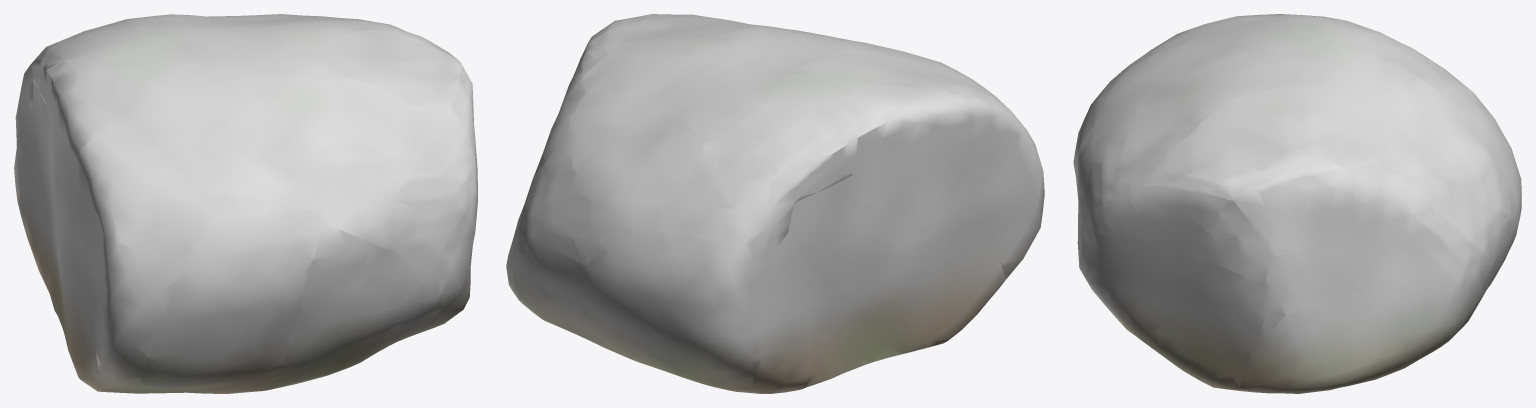
The model's file is rock_v4.glb.
3 views of the same model, side by side, from view 1: azimuth 30°, elevation 25°; view 2: azimuth 150°, elevation 25°; view 3: azimuth 270°, elevation 25° (orthographic). The views are drawn at different scales.
Parts seen in each view (by area): view 1: Chunk_07, Chunk_12, Chunk_02, Chunk_15, Chunk_28, Chunk_25, Chunk_20, Chunk_23, Chunk_26, Chunk_17, Chunk_10, Chunk_04 (+9 smaller); view 2: Chunk_06, Chunk_04, Chunk_17, Chunk_19, Chunk_01, Chunk_12, Chunk_22, Chunk_09, Chunk_11, Chunk_27, Chunk_14, Chunk_29 (+8 smaller); view 3: Chunk_03, Chunk_00, Chunk_05, Chunk_10, Chunk_21, Chunk_19, Chunk_26, Chunk_18, Chunk_16, Chunk_29, Chunk_27, Chunk_28 (+14 smaller).
Boxes of the visible parts, x1=… form: Chunk_07: x1=141, y1=195, x2=319, y2=393; Chunk_12: x1=77, y1=129, x2=208, y2=392; Chunk_02: x1=264, y1=222, x2=442, y2=390; Chunk_15: x1=313, y1=146, x2=449, y2=276; Chunk_28: x1=185, y1=39, x2=319, y2=149; Chunk_25: x1=109, y1=47, x2=236, y2=154; Chunk_20: x1=175, y1=122, x2=314, y2=210; Chunk_23: x1=317, y1=65, x2=446, y2=167; Chunk_26: x1=306, y1=28, x2=465, y2=107; Chunk_17: x1=46, y1=62, x2=121, y2=211; Chunk_10: x1=414, y1=142, x2=477, y2=333; Chunk_04: x1=57, y1=206, x2=148, y2=393; Chunk_06: x1=581, y1=185, x2=776, y2=390; Chunk_04: x1=871, y1=166, x2=1006, y2=361; Chunk_17: x1=852, y1=84, x2=971, y2=237; Chunk_19: x1=570, y1=113, x2=706, y2=267; Chunk_01: x1=730, y1=233, x2=873, y2=393; Chunk_12: x1=938, y1=68, x2=1044, y2=278; Chunk_22: x1=747, y1=71, x2=859, y2=202; Chunk_09: x1=788, y1=175, x2=892, y2=328; Chunk_11: x1=522, y1=142, x2=624, y2=356; Chunk_27: x1=656, y1=59, x2=783, y2=140; Chunk_14: x1=686, y1=132, x2=793, y2=249; Chunk_29: x1=579, y1=35, x2=739, y2=93; Chunk_03: x1=1369, y1=223, x2=1483, y2=380; Chunk_00: x1=1239, y1=285, x2=1379, y2=393; Chunk_05: x1=1158, y1=258, x2=1266, y2=390; Chunk_10: x1=1080, y1=177, x2=1176, y2=353; Chunk_21: x1=1233, y1=148, x2=1353, y2=256; Chunk_19: x1=1392, y1=84, x2=1510, y2=221; Chunk_26: x1=1166, y1=98, x2=1293, y2=200; Chunk_18: x1=1129, y1=157, x2=1227, y2=273; Chunk_16: x1=1350, y1=166, x2=1435, y2=278; Chunk_29: x1=1253, y1=80, x2=1365, y2=170; Chunk_27: x1=1298, y1=51, x2=1424, y2=116; Chunk_28: x1=1142, y1=53, x2=1305, y2=107.
Size of the model in its own units: 2.34 by 1.44 by 2.38.
